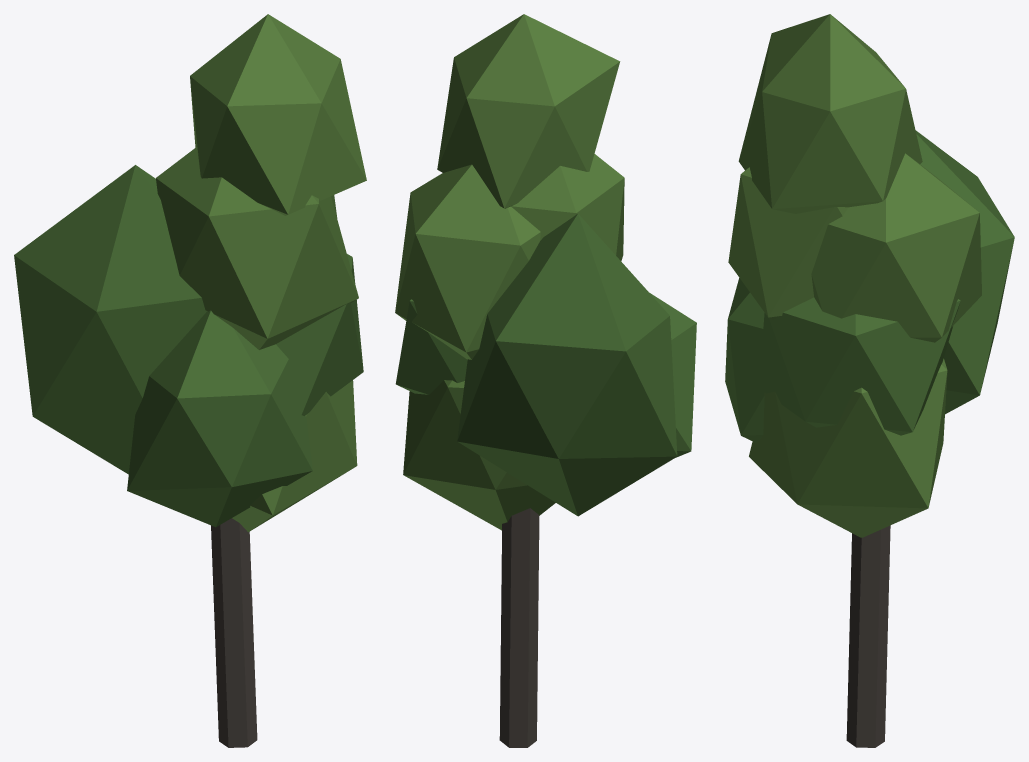
The picture shows the model from 3 angles, left to right: view 1: azimuth 30°, elevation 25°; view 2: azimuth 150°, elevation 25°; view 3: azimuth 270°, elevation 25°; orthographic projection. The views are drawn at different scales.
Visible parts, largest first — view 1: al_1; view 2: al_1; view 3: al_1.
Part boxes in pixels (x1=…): al_1: x1=14, y1=14, x2=366, y2=747; al_1: x1=395, y1=14, x2=696, y2=747; al_1: x1=725, y1=14, x2=1014, y2=747.
Bounding box in the file's own units: 3.53 × 8.45 × 3.02.
